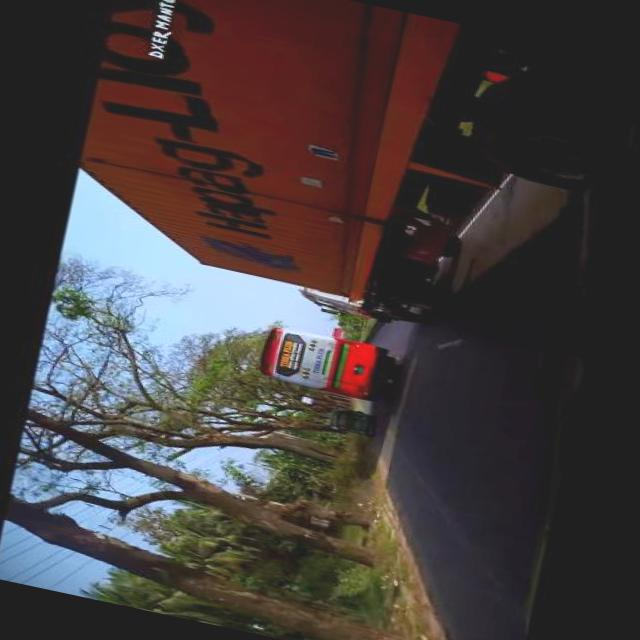bus: (252, 320, 406, 410)
motorcycle: (322, 401, 382, 442)
truck: (57, 0, 640, 369)
